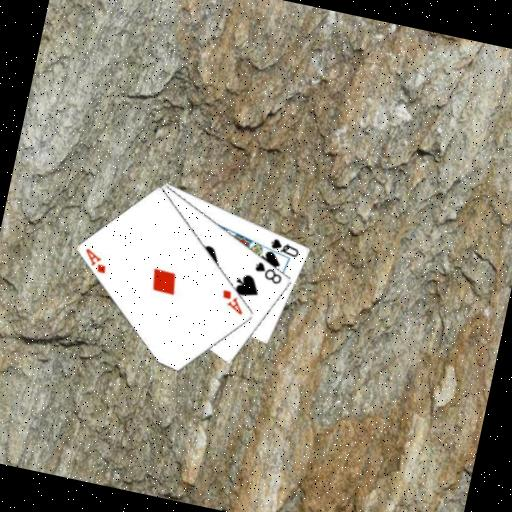8S: (249, 257, 286, 286)
AD: (216, 285, 248, 317), (78, 244, 111, 275)
QS: (265, 233, 302, 259)
